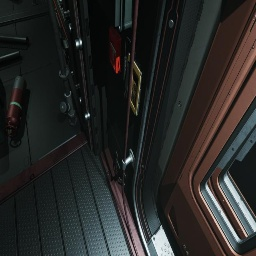EmergencyPhone ,: (123, 37, 144, 116)
FireAlarm ,: (109, 25, 121, 74)
NitrogenTank ,: (4, 76, 27, 137), (14, 0, 19, 2)
